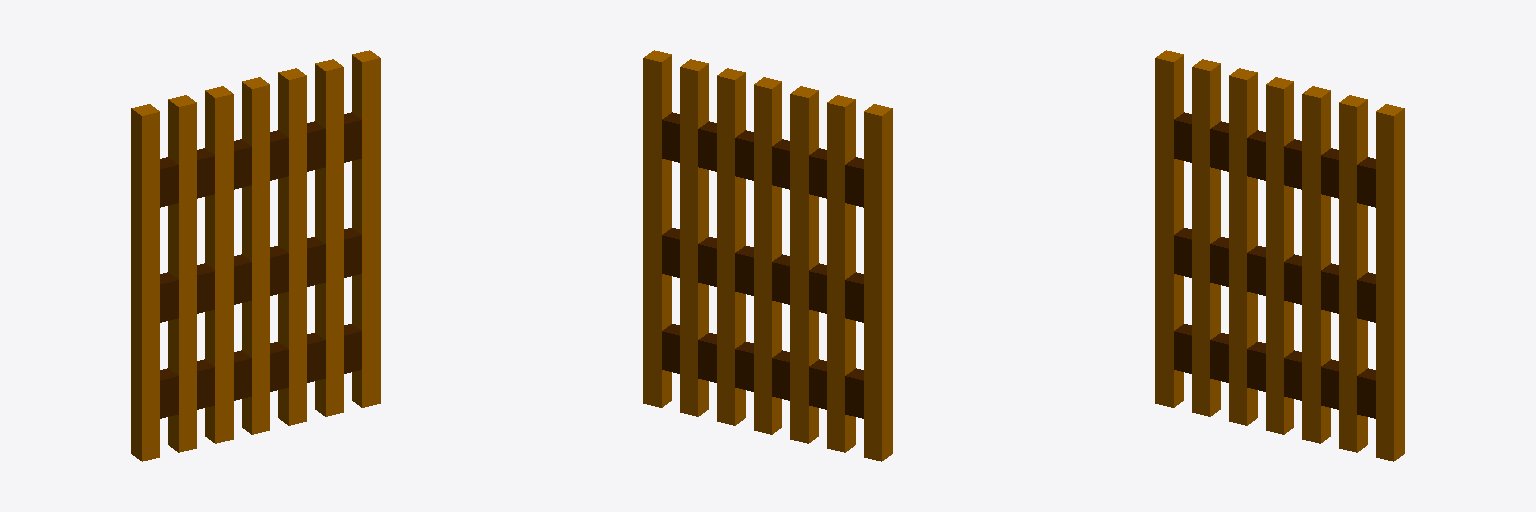
The picture shows the model from 3 angles: view 1: azimuth 30°, elevation 25°; view 2: azimuth 150°, elevation 25°; view 3: azimuth 330°, elevation 25°; orthographic projection.
Visible parts, largest first — view 1: object 1; view 2: object 1; view 3: object 1.
Boxes of the visible parts, box(x1,y1,x2,y2) form: object 1: box(131, 50, 380, 461); object 1: box(643, 50, 892, 461); object 1: box(1155, 50, 1404, 461).
Size of the model in its own units: 1.3 by 1.8 by 0.1.
Materials: 1 (1 with a texture image).